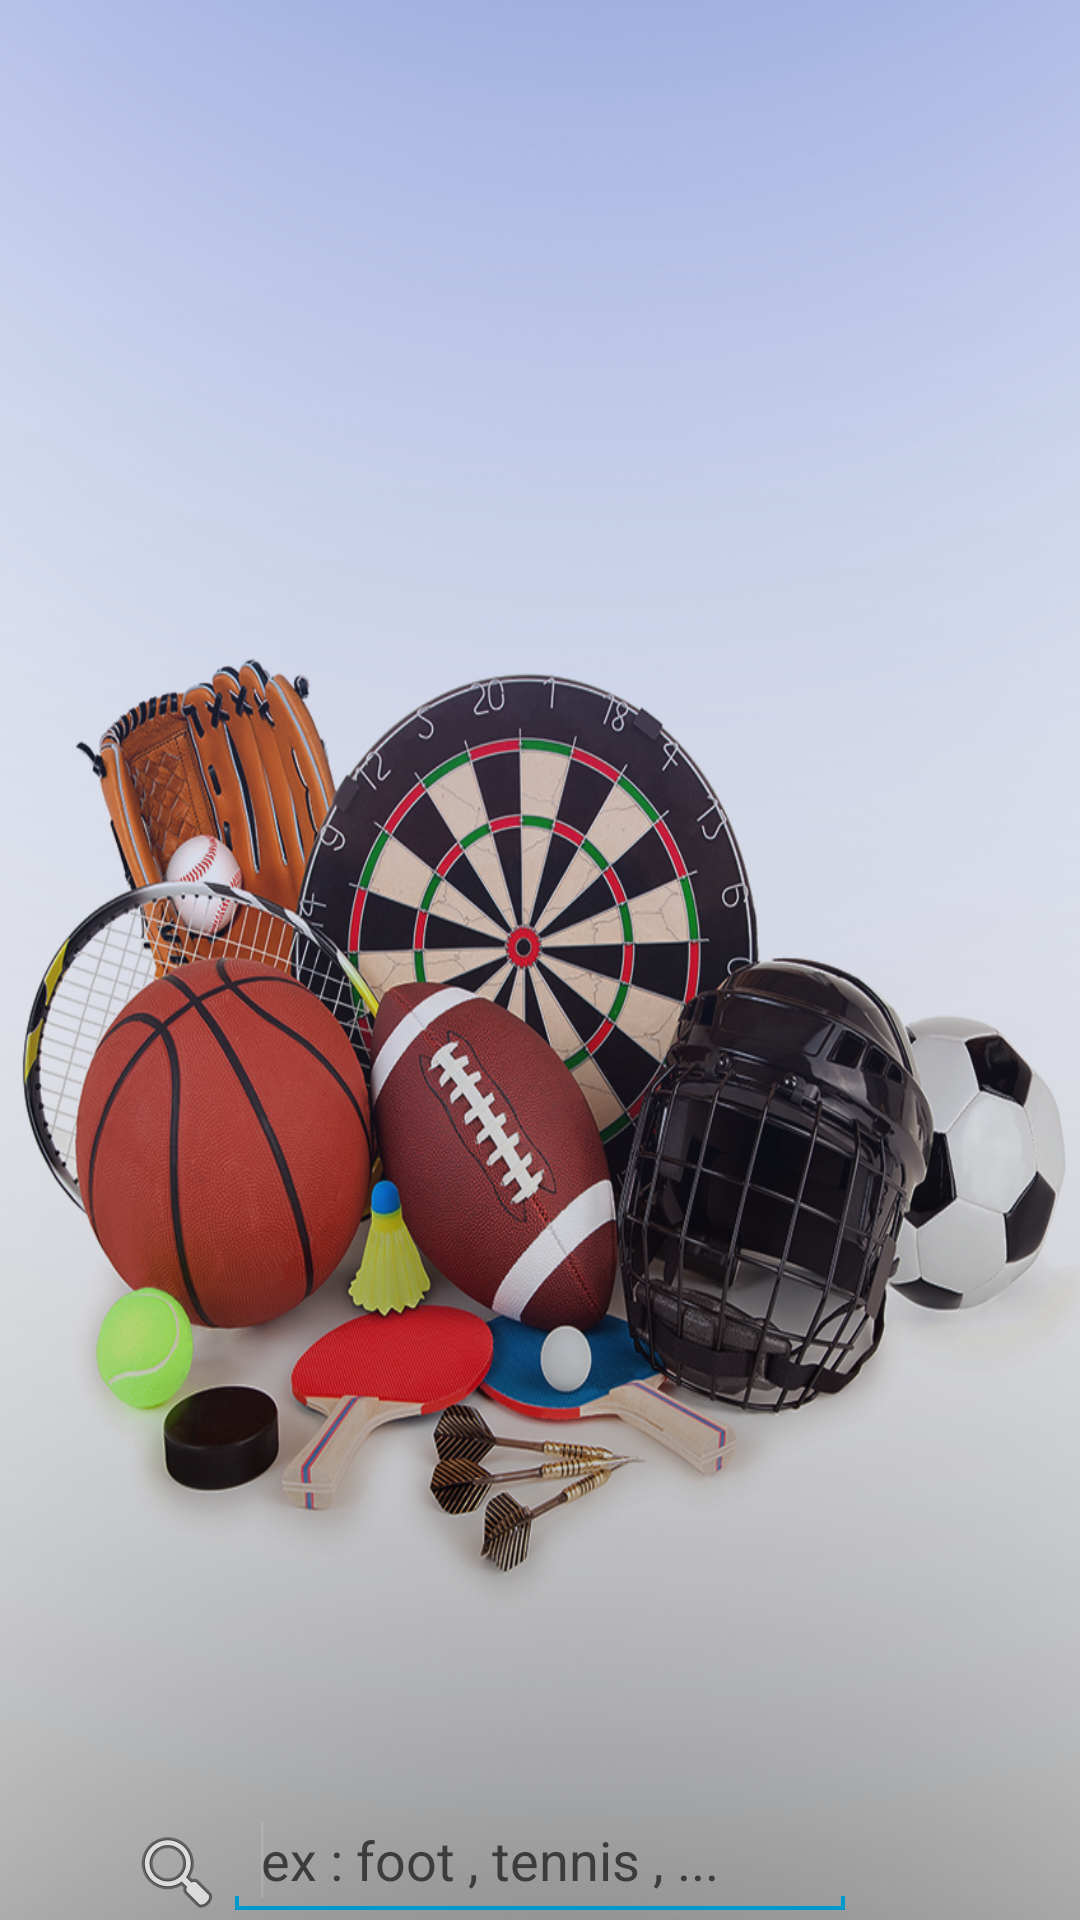

Point at icon controls on the screen. Image size 1080 x 1920, points as (x,y).
search: (177,1872)
